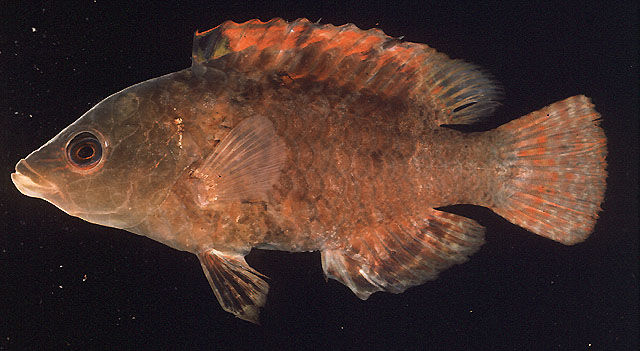fish: (10, 17, 608, 323)
